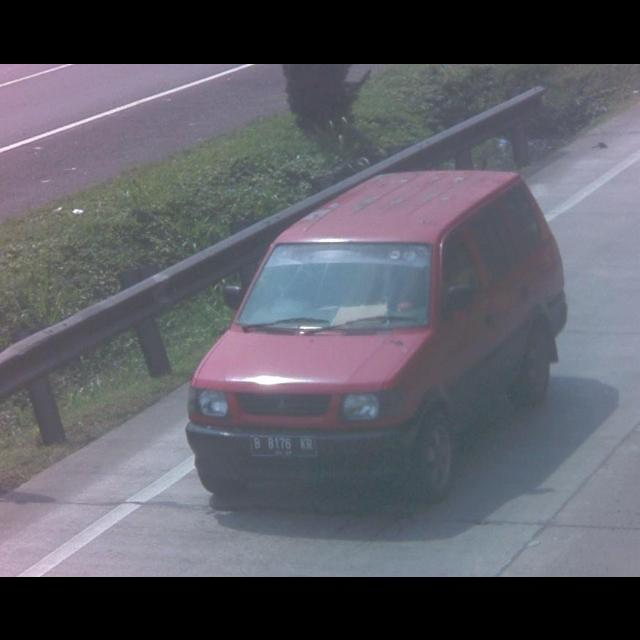plate: (250, 433, 316, 457)
